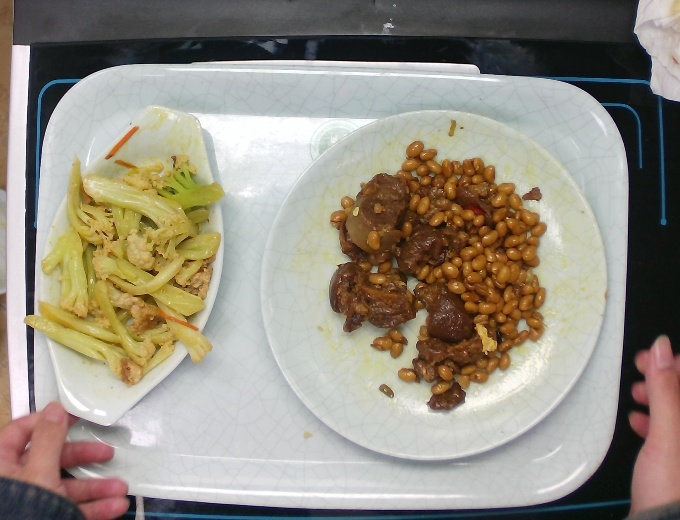JYsf-Da_Yuan_Pan: (256, 108, 611, 461)
JYsf-Yu_Pan: (38, 101, 227, 427)
